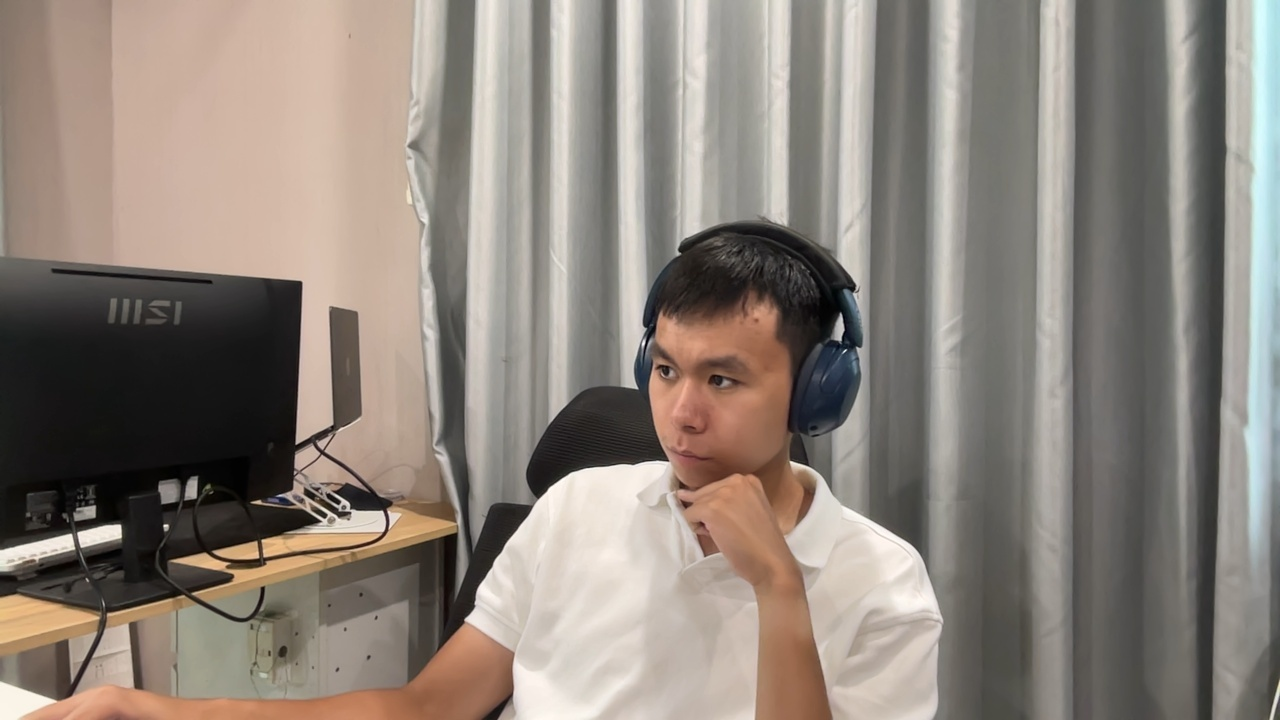over_ear: (668, 218, 866, 443), (786, 285, 864, 442)
